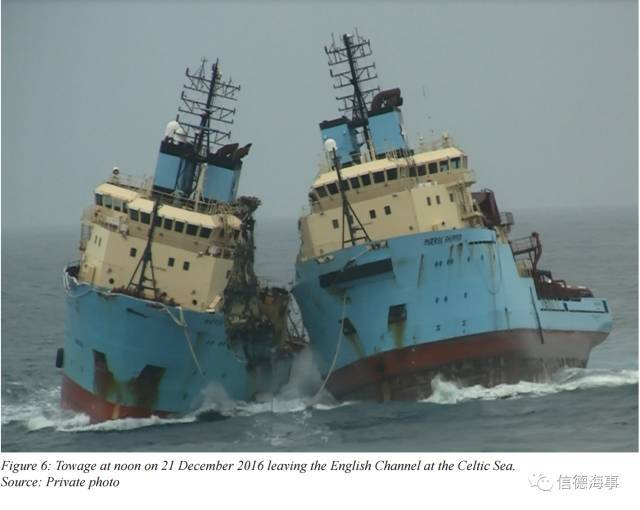otherboat: (285, 29, 611, 406), (53, 52, 309, 430)
